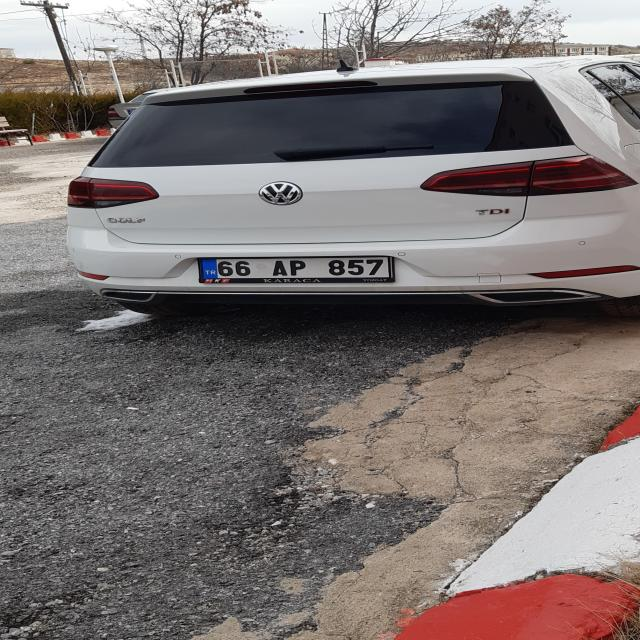plate: (200, 257, 392, 278)
